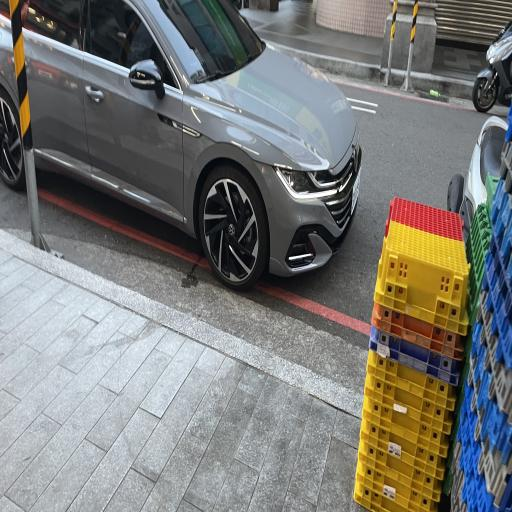MIU: (180, 172, 336, 320)
car: (0, 0, 363, 290)
redline: (25, 165, 388, 363)
